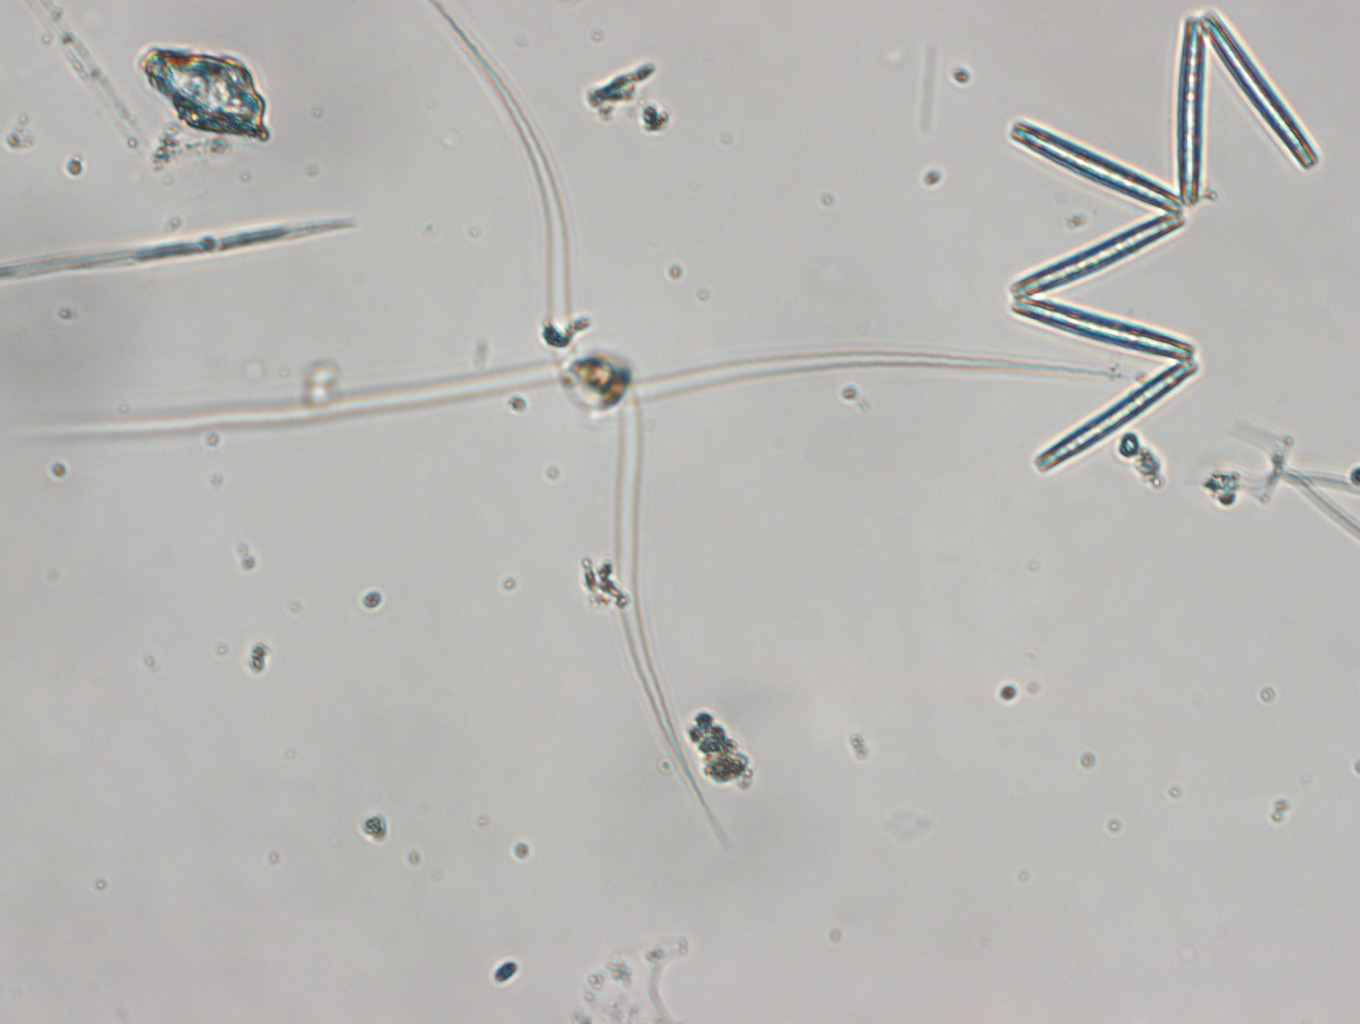thalassionema nitzschioides: (1002, 8, 1329, 472)
